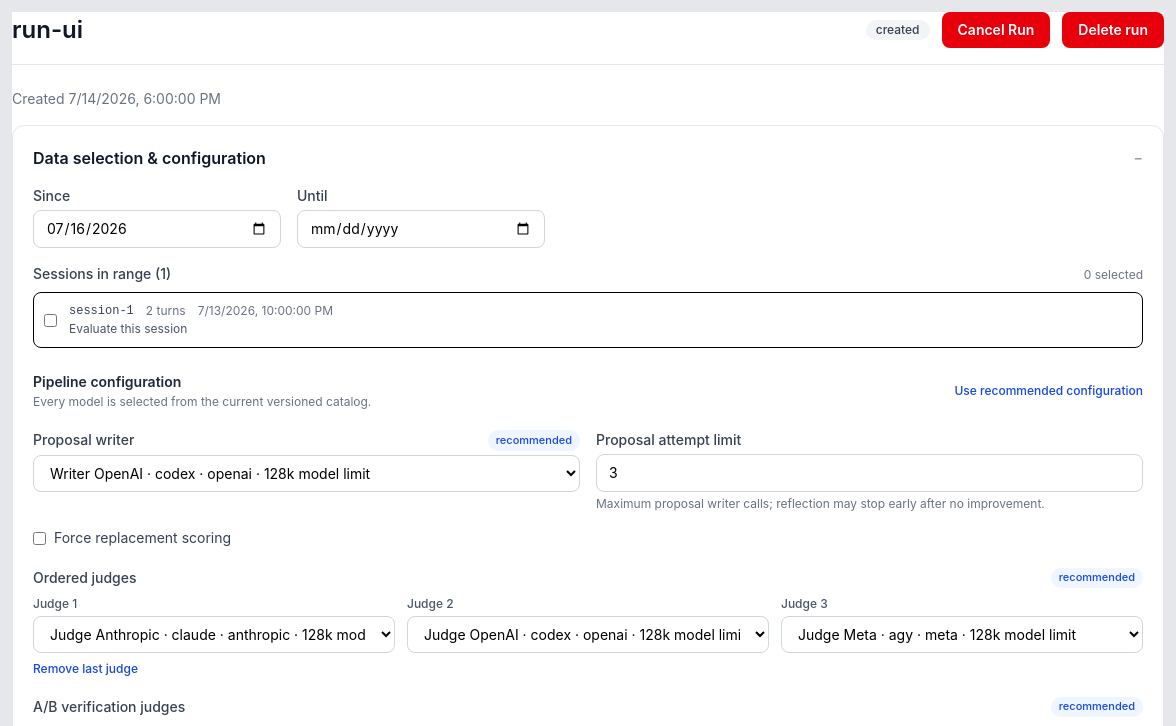
RunDetail wiring › clears the unsaved session selection when the date range changes
The width and height of the screenshot is (1176, 726).
Click the checkbox named "Select session session-1": {"x": 50, "y": 320} [44,314,57,326]
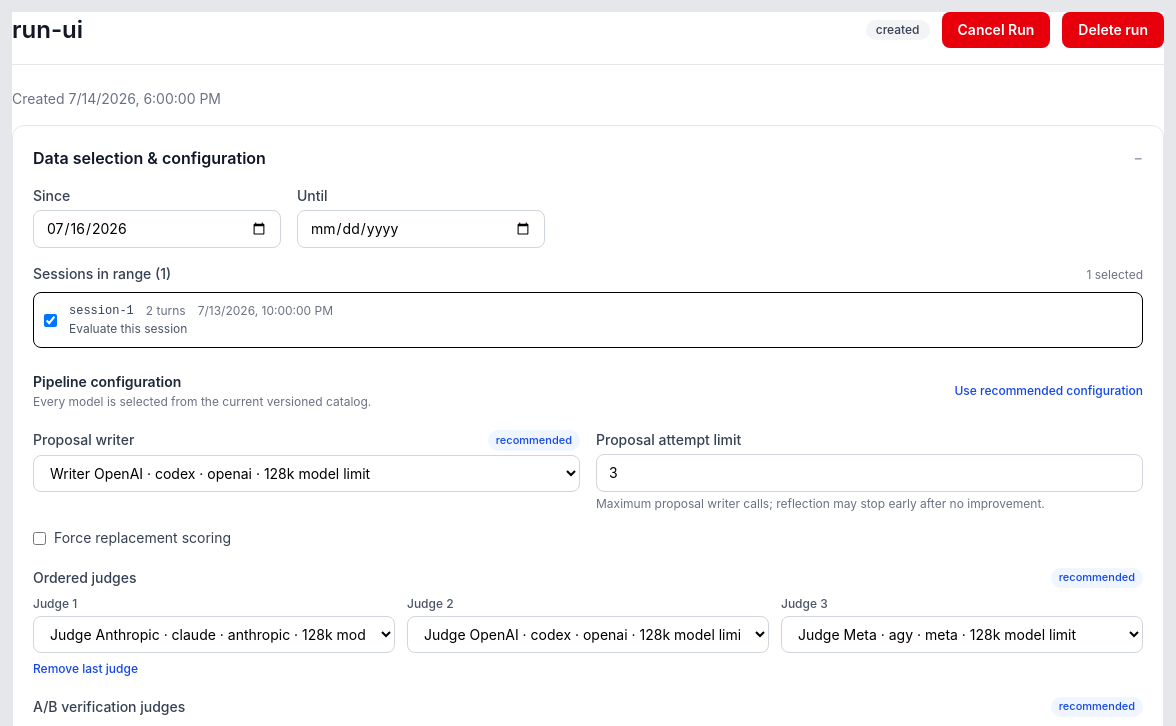
Now the text "1 selected" is shown, box [1086,267,1143,283]
In the date field labelled "Since": {"x": 157, "y": 229} [33,210,281,248], type "2026-07-10"
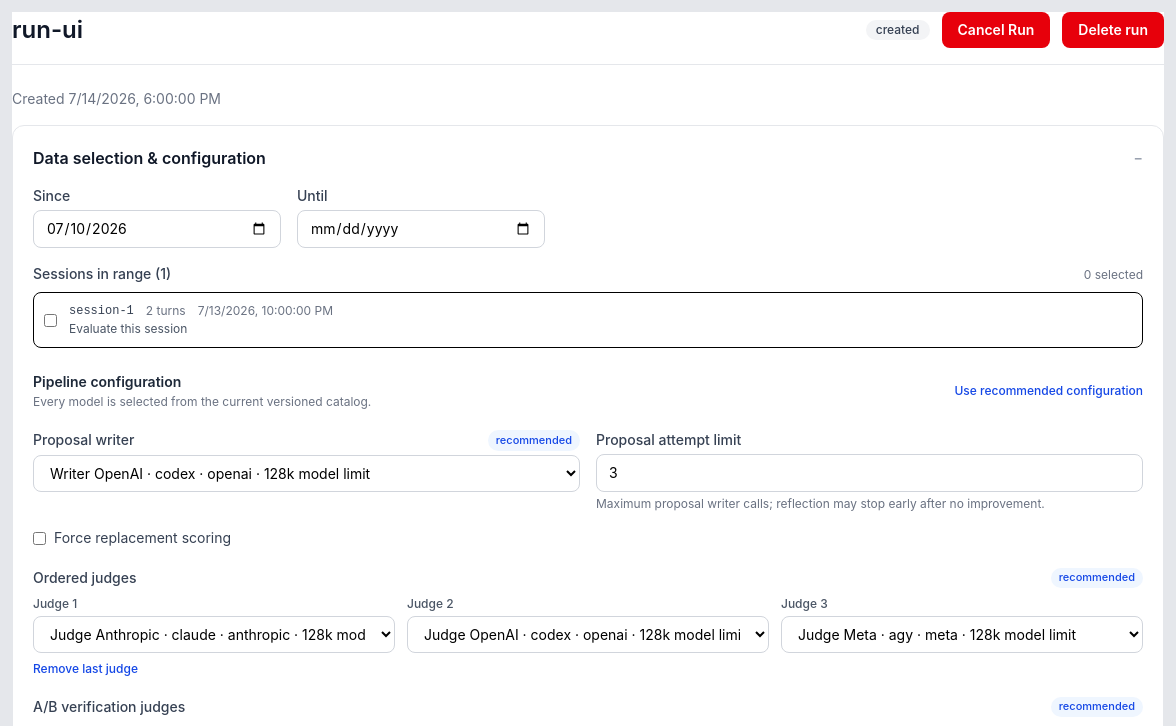
Now the checkbox named "Select session session-1" is not checked
Now the text "0 selected" is shown, box [1084,267,1143,283]
Click the checkbox named "Select session session-1": {"x": 50, "y": 320} [44,314,57,326]
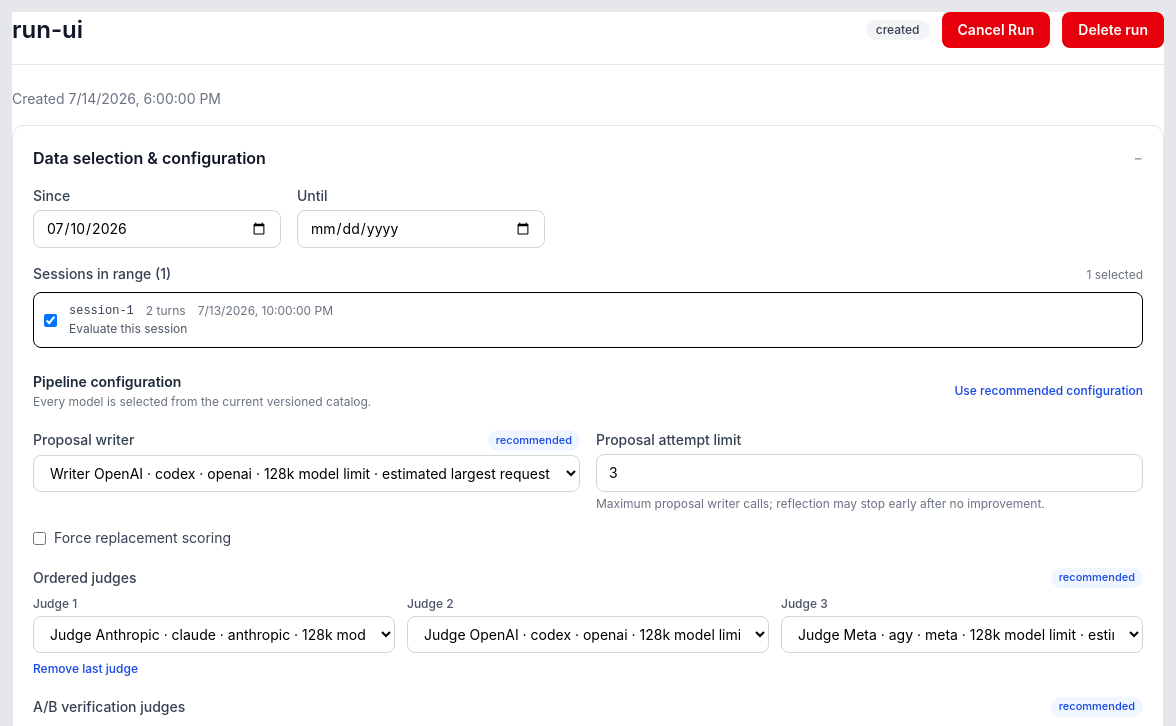
In the date field labelled "Until": {"x": 421, "y": 229} [297,210,545,248], type "2026-07-15"
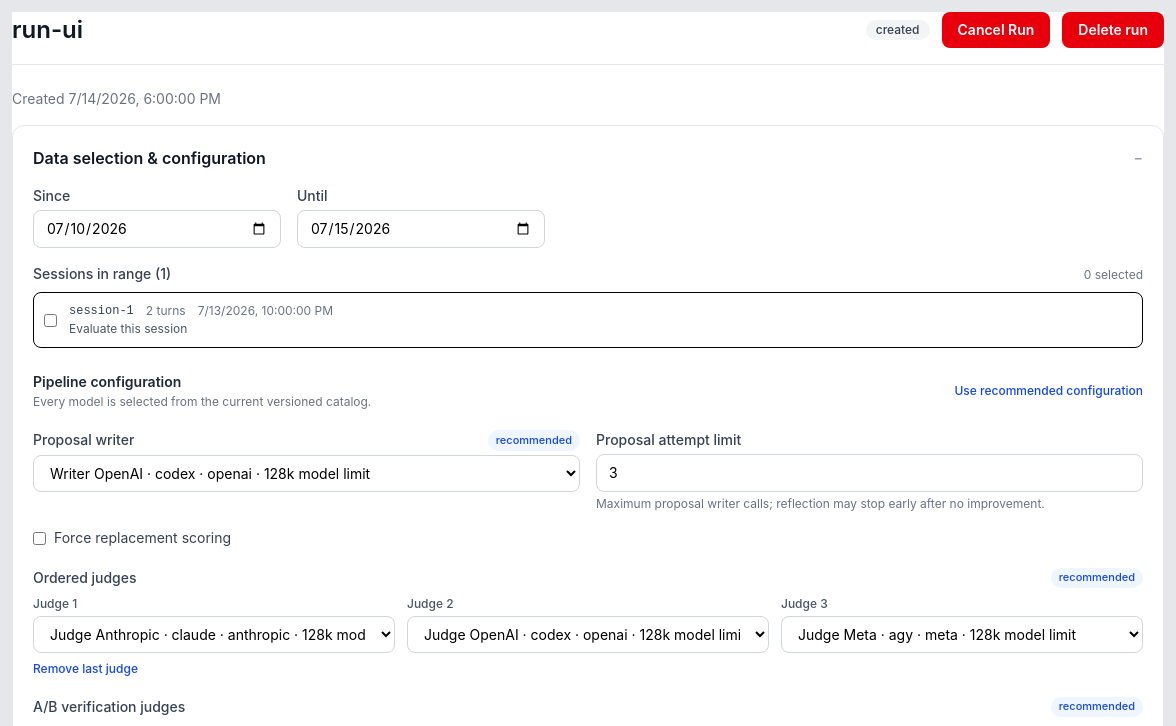
Now the checkbox named "Select session session-1" is not checked, box [44,314,57,326]
Now the text "0 selected" is shown, box [1084,267,1143,283]
